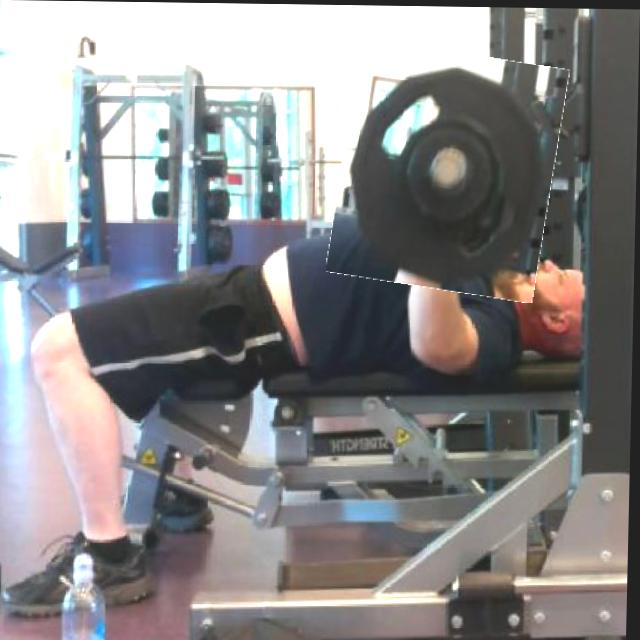barbell: (335, 45, 564, 296)
